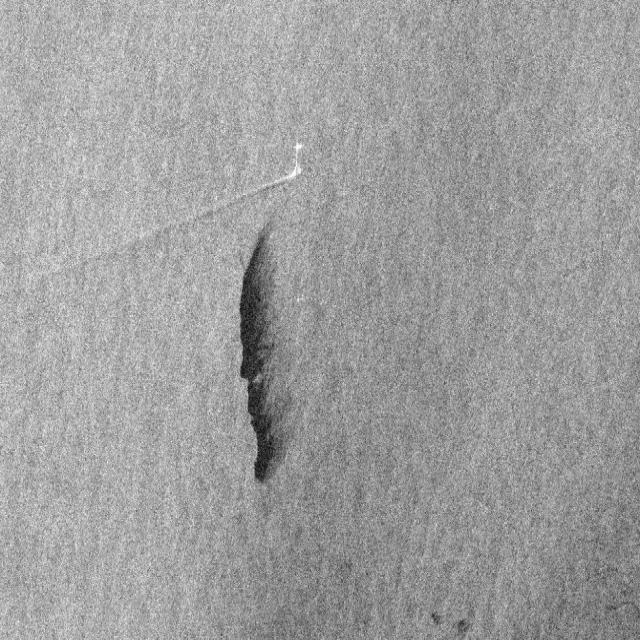oil-spill: (230, 222, 314, 491)
